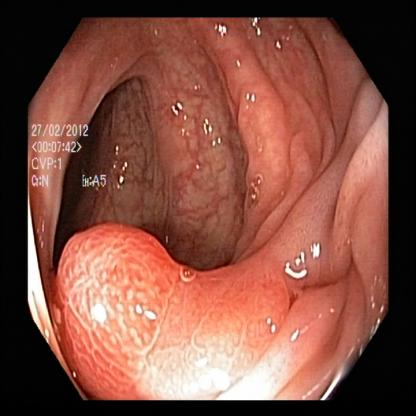Labels: (26, 113, 134, 194)
Polyps: (54, 223, 184, 381)
